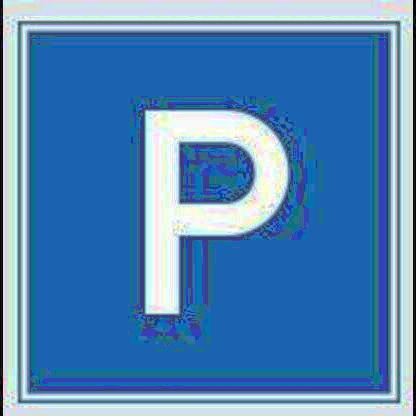Parking: (11, 8, 404, 413)
